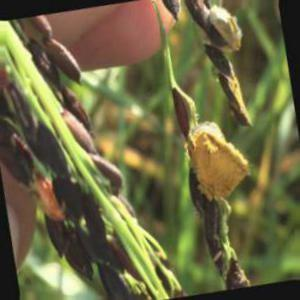Leaf_Scald: (192, 123, 244, 201), (216, 6, 244, 103), (35, 174, 65, 225)
